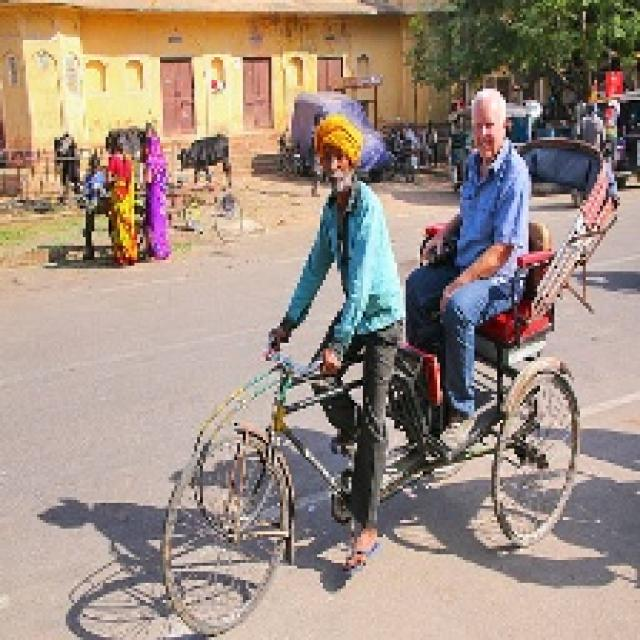rickshaw: (154, 117, 603, 600)
